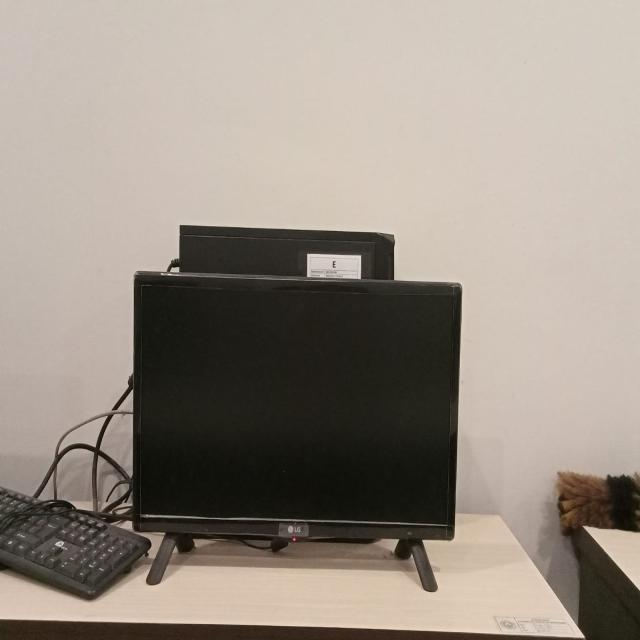komputer: (131, 268, 463, 594)
